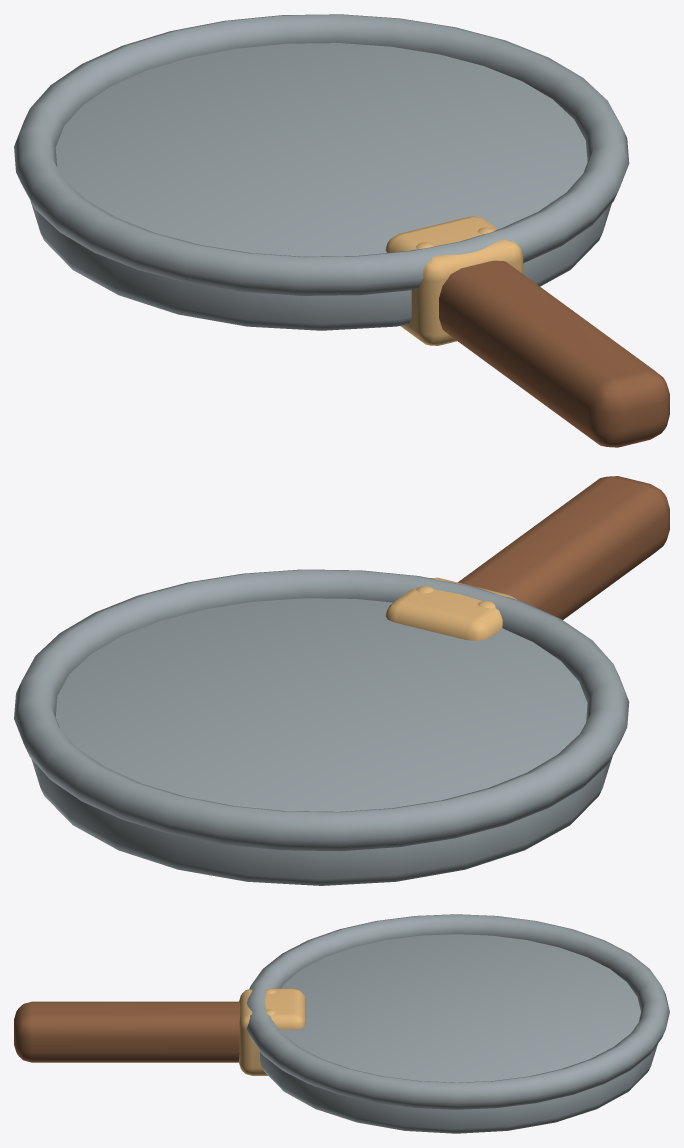
File: weapon_pan_soft.glb
3 views of the same model, one above another, from view 1: azimuth 30°, elevation 25°; view 2: azimuth 150°, elevation 25°; view 3: azimuth 270°, elevation 25° (orthographic). The views are drawn at different scales.
Visible parts, largest first — view 1: weapon_pan_soft; view 2: weapon_pan_soft; view 3: weapon_pan_soft.
Part boxes in pixels (x1,y1,x2,y2): weapon_pan_soft: (14, 14, 669, 447); weapon_pan_soft: (14, 476, 669, 885); weapon_pan_soft: (14, 914, 669, 1133).
Bounding box in the file's own units: 0.826 × 0.136 × 1.27.
